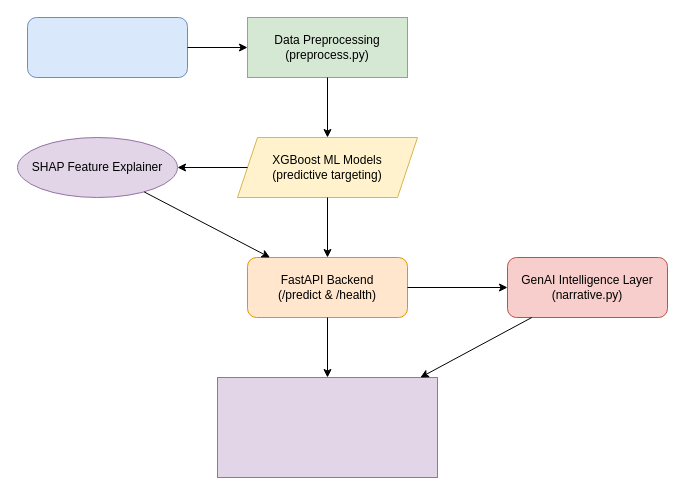
Some shapes in this 685 by 495 pixel diagram are drawn without their labels. Each missing label, with the centre of its shape:
"Raw Telemetry Data (CSVs)" belongs at (x=107, y=47).
"Streamlit Dashboard (User Interface)" belongs at (x=327, y=427).
